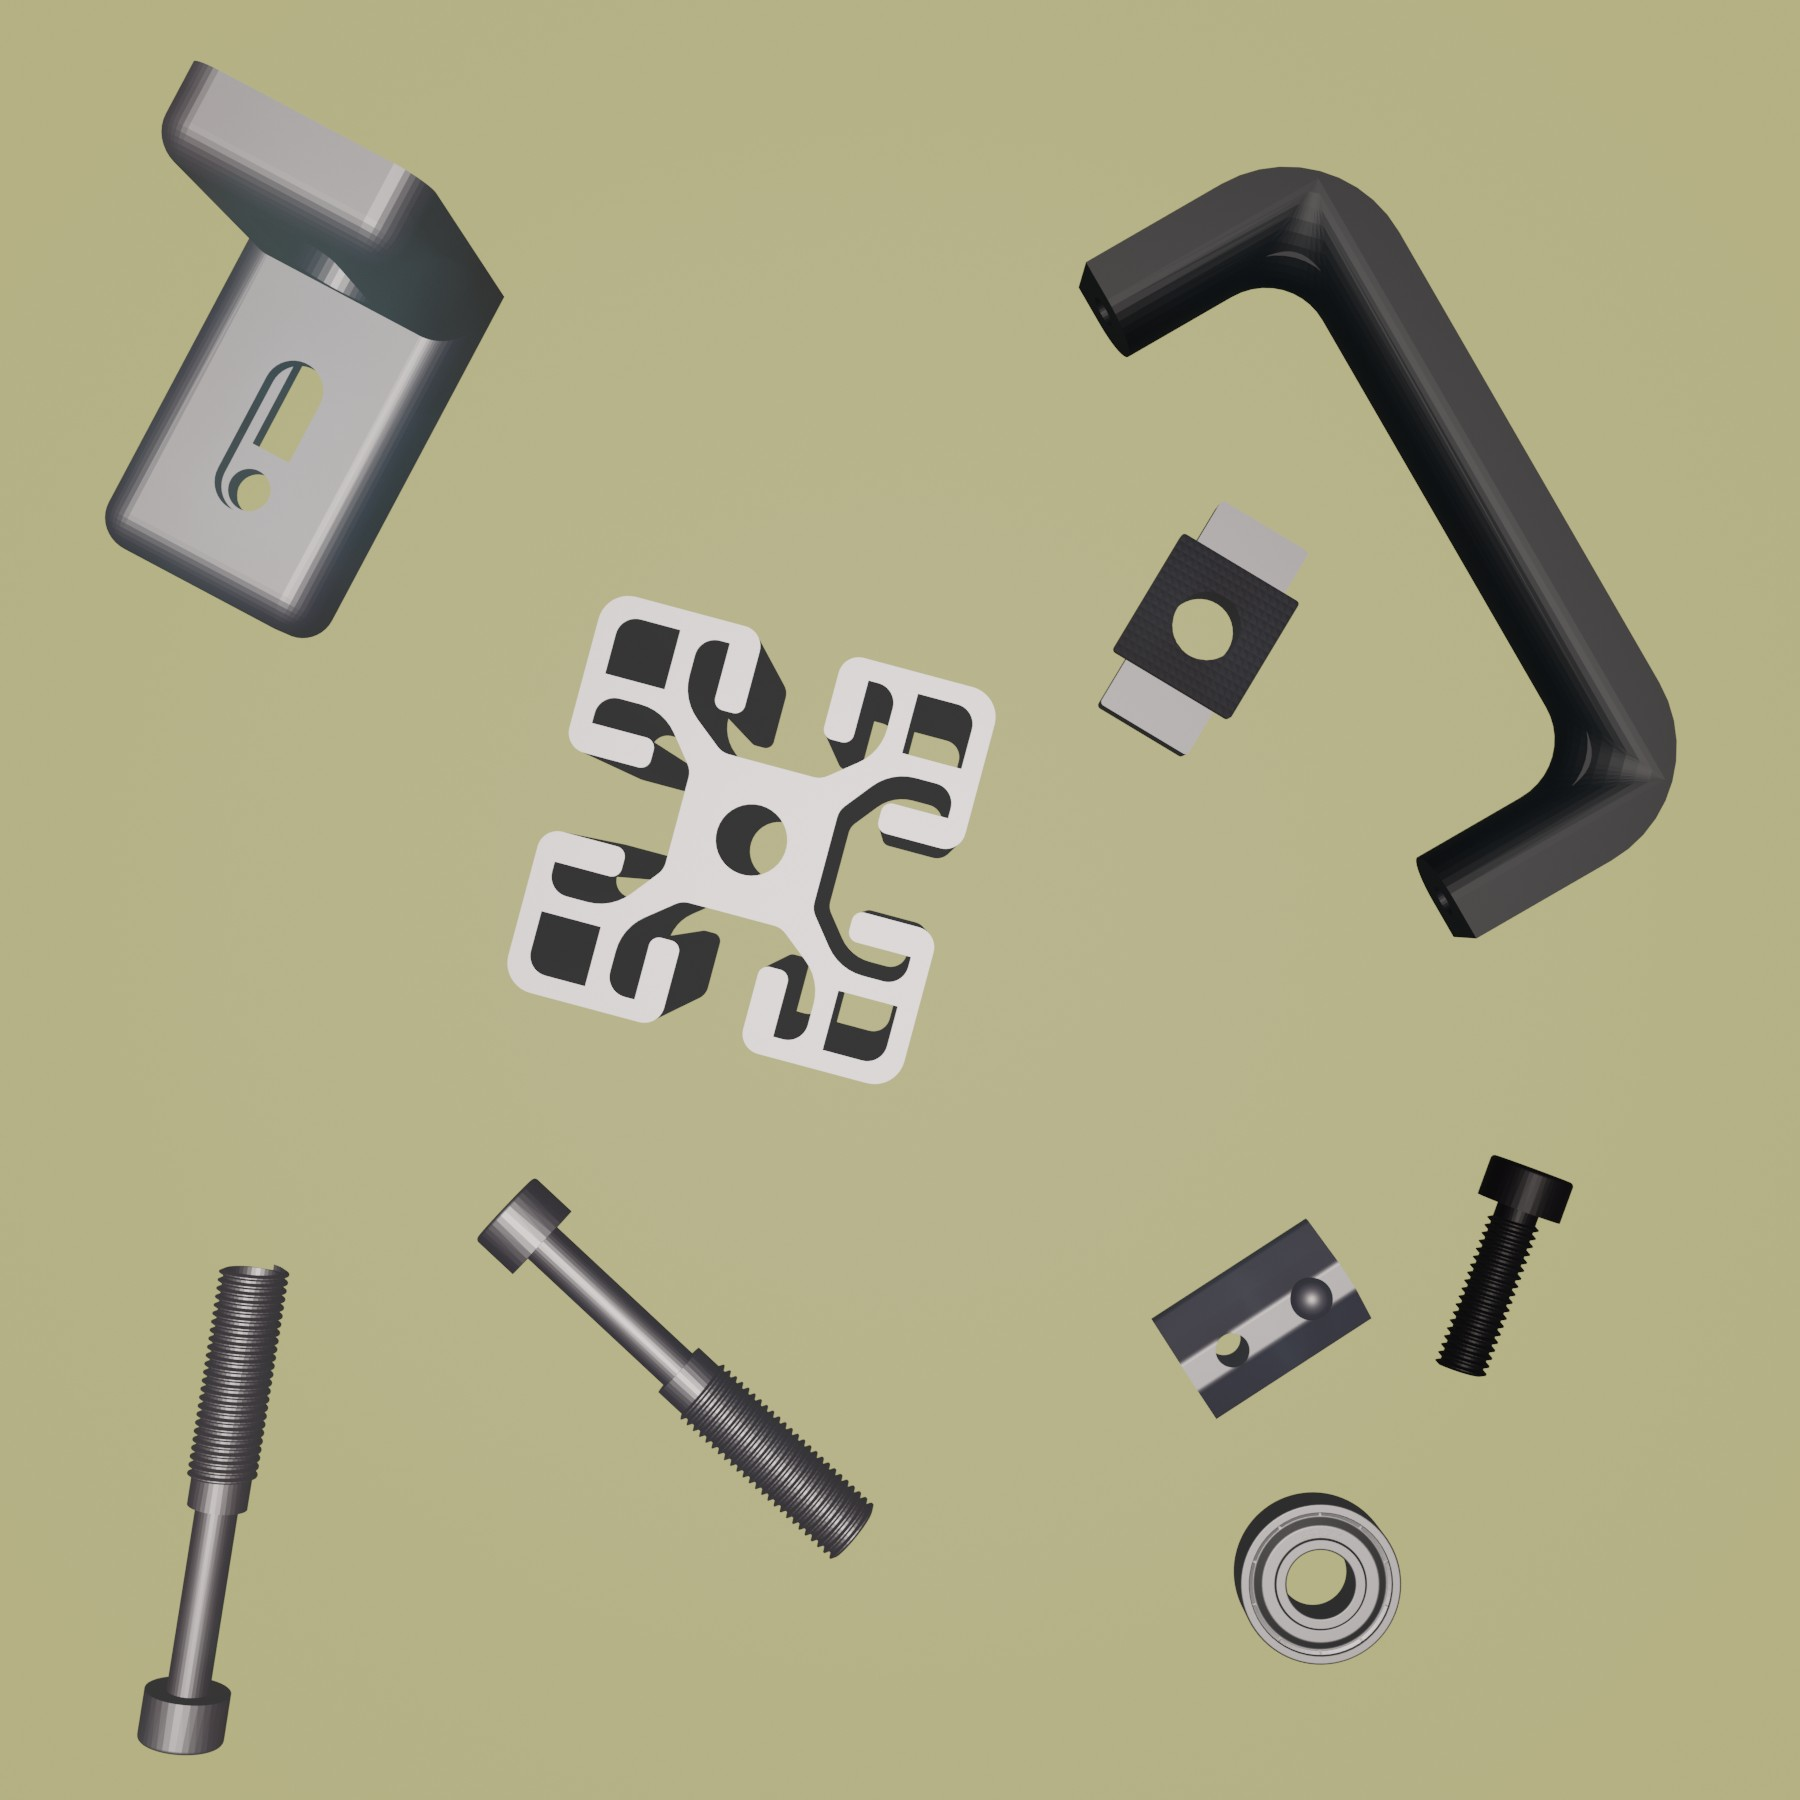Aluminium Extension: (504, 588, 1001, 1090)
Ball Bearing: (1231, 1488, 1404, 1666)
Multiwinkel: (102, 54, 506, 641)
Pull Handle: (1078, 162, 1680, 941)
Shoulder Socket Head Cap Screw: (473, 1174, 877, 1561), (135, 1258, 293, 1759)
Socket Head Cap Screw: (1436, 1151, 1577, 1381)
T Nut Square: (1093, 491, 1315, 758)
T Spring Nut: (1151, 1216, 1373, 1419)
